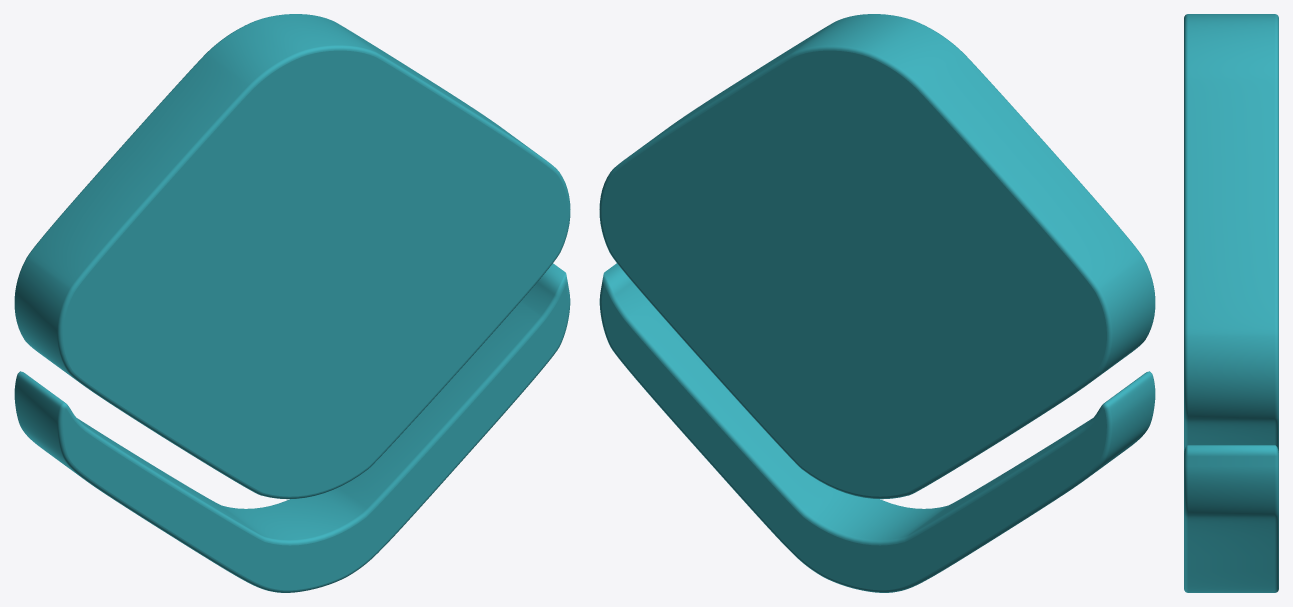
Rendered from openlayers-transformed.glb.
3 renders of one model, left to right at view 1: azimuth 30°, elevation 25°; view 2: azimuth 150°, elevation 25°; view 3: azimuth 270°, elevation 25°, orthographic. The views are drawn at different scales.
Visible parts, largest first — view 1: Curve; view 2: Curve; view 3: Curve.
Boxes of the visible parts, x1,y1,x2,y2 form: Curve: (14, 14, 570, 592); Curve: (599, 14, 1155, 592); Curve: (1184, 14, 1278, 592).
Size of the model in its own units: 0.0281 by 0.0283 by 0.0044.
